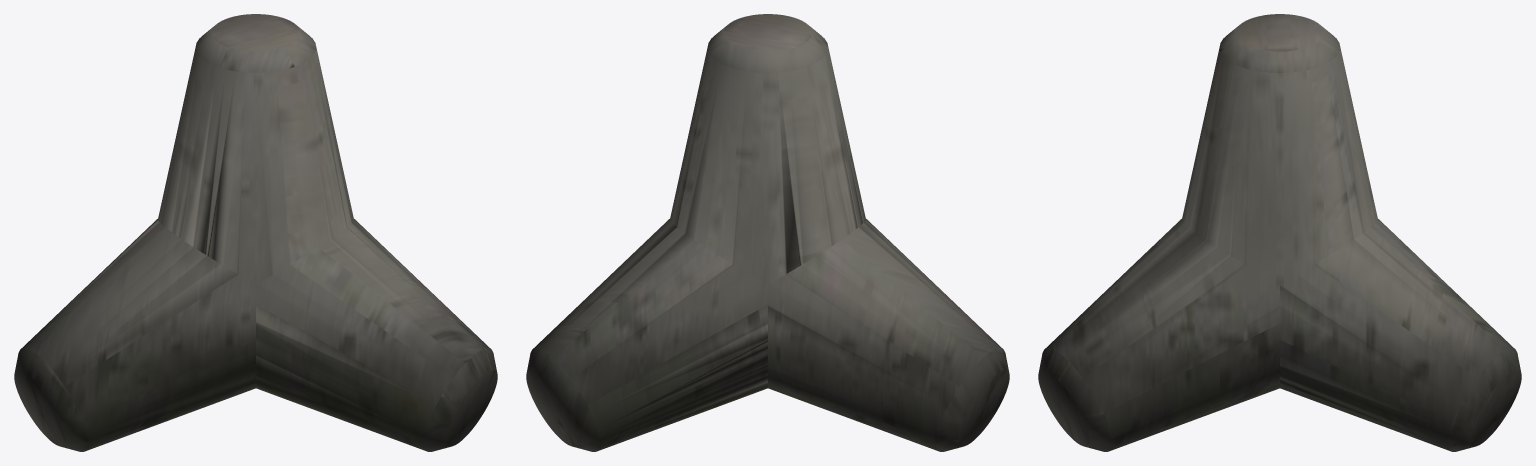
The model's file is a07_tetrapod.glb.
The picture shows the model from 3 angles, left to right: view 1: azimuth 30°, elevation 25°; view 2: azimuth 150°, elevation 25°; view 3: azimuth 270°, elevation 25°; orthographic projection.
Visible parts, largest first — view 1: body; view 2: body; view 3: body.
Part boxes in pixels (x1=…): body: x1=14, y1=14, x2=497, y2=451; body: x1=526, y1=14, x2=1009, y2=451; body: x1=1038, y1=14, x2=1521, y2=451.
Size of the model in its own units: 0.8995 by 0.8426 by 1.
Materials: 1 (1 with a texture image).
